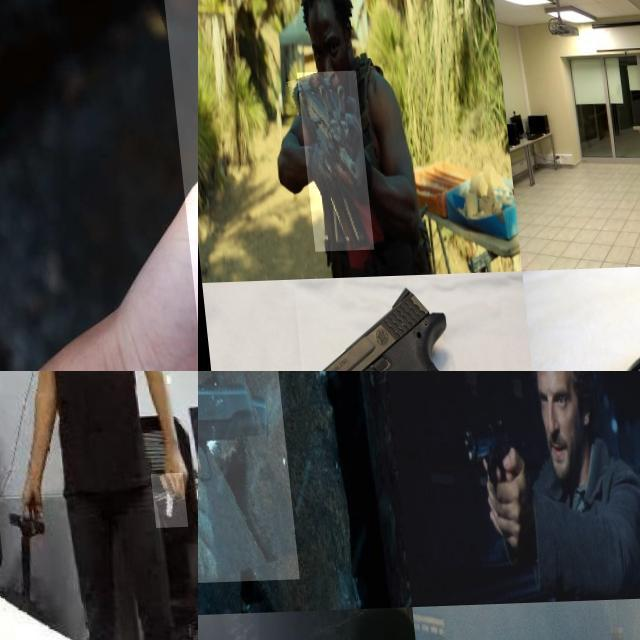-: (152, 0, 198, 371), (140, 476, 176, 530)
gun-knife-thesis - v11 Yolov5 augmented: (224, 284, 510, 371), (198, 371, 294, 585), (294, 72, 368, 252), (448, 401, 522, 548), (624, 123, 640, 141)
